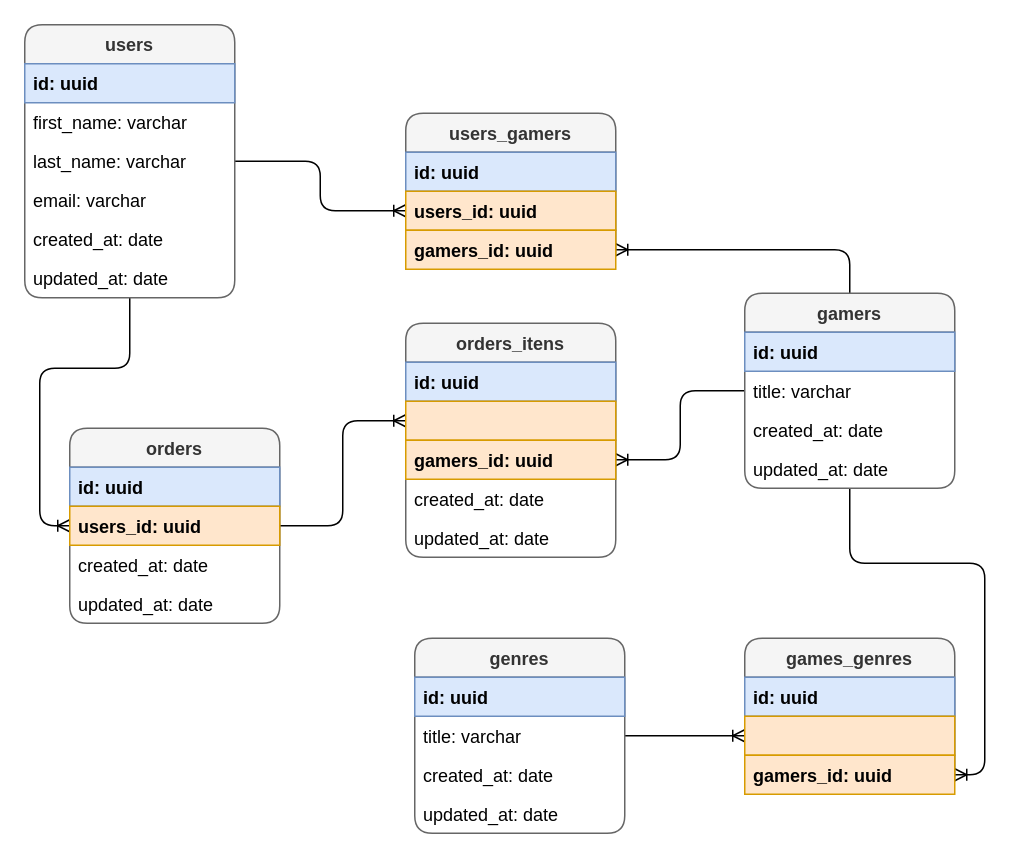
Image size: 1010x858. Some labels were removed from this diagram. The shapes that lost their labels are listed below. From the top down, each one's centre as x and y in pixels, then its label:
the point at 510,420: orders_id: uuid
the point at 849,735: genres_id: uuid
